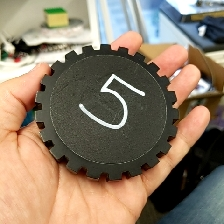gear: (33, 42, 180, 183)
